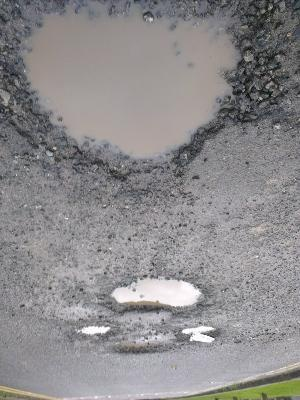pothole: (3, 0, 279, 186), (101, 276, 208, 315), (106, 338, 175, 355), (179, 324, 219, 347), (72, 323, 114, 341)
